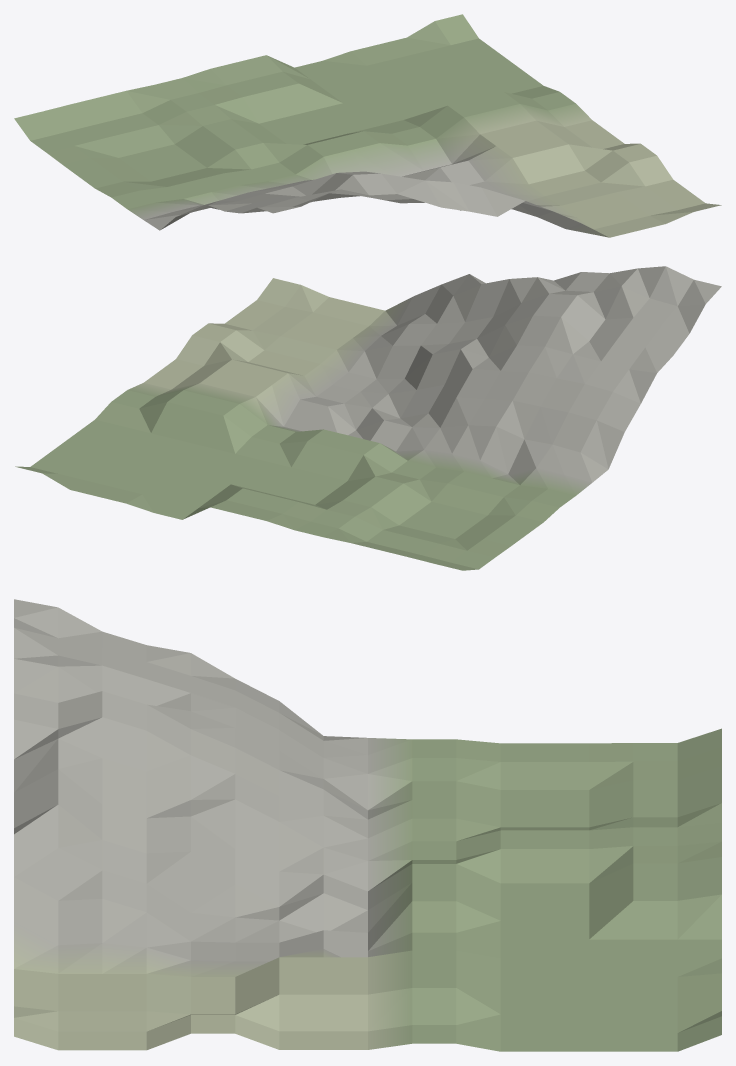
3 renders of one model, top to bottom at view 1: azimuth 30°, elevation 25°; view 2: azimuth 150°, elevation 25°; view 3: azimuth 270°, elevation 25°, orthographic. The views are drawn at different scales.
Size of the model in its own units: 32 by 8.78 by 32.
